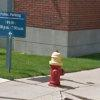Hydrant: (44, 39, 68, 94)
